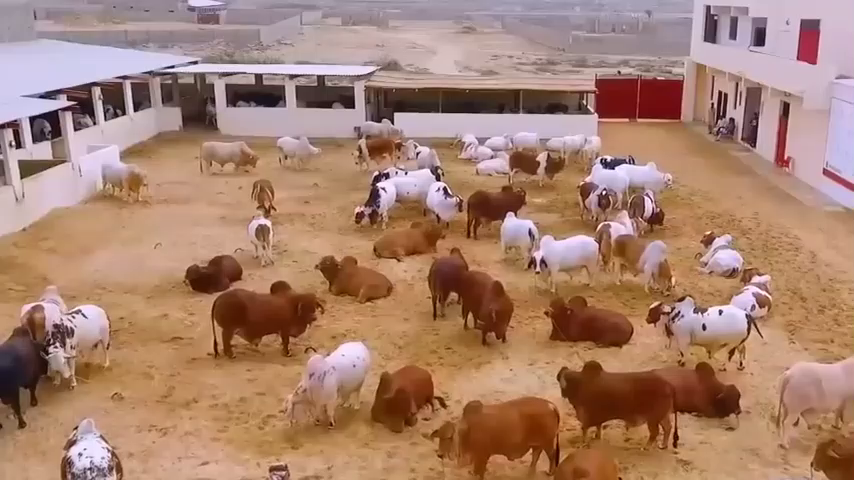bo: (552, 359, 684, 445), (422, 393, 566, 468), (205, 273, 328, 360), (278, 337, 372, 441), (644, 290, 763, 372), (768, 342, 853, 451), (535, 284, 636, 355), (659, 358, 749, 435), (605, 219, 684, 297), (2, 314, 54, 432), (50, 300, 119, 388), (370, 357, 435, 445), (49, 411, 128, 480), (531, 226, 607, 293), (311, 244, 390, 306), (466, 177, 534, 247), (457, 264, 513, 348), (16, 276, 76, 350), (420, 241, 470, 326), (368, 217, 436, 273), (724, 256, 775, 326), (351, 172, 403, 236), (559, 430, 633, 474), (92, 155, 152, 209), (693, 220, 741, 287), (268, 122, 328, 173), (181, 246, 242, 294), (496, 212, 545, 269), (195, 133, 259, 176), (567, 171, 616, 227), (236, 206, 284, 261), (624, 182, 670, 236), (404, 133, 453, 183), (396, 157, 447, 204), (621, 155, 676, 197), (346, 129, 399, 172), (245, 167, 289, 218), (422, 171, 461, 225), (580, 160, 633, 197), (810, 430, 849, 480), (541, 127, 583, 163), (608, 205, 652, 238), (356, 113, 405, 142), (507, 121, 542, 157), (69, 101, 102, 136), (590, 148, 639, 171), (582, 126, 610, 163), (25, 114, 60, 142), (364, 162, 409, 183), (483, 125, 513, 154), (462, 139, 491, 161), (454, 125, 474, 150)
